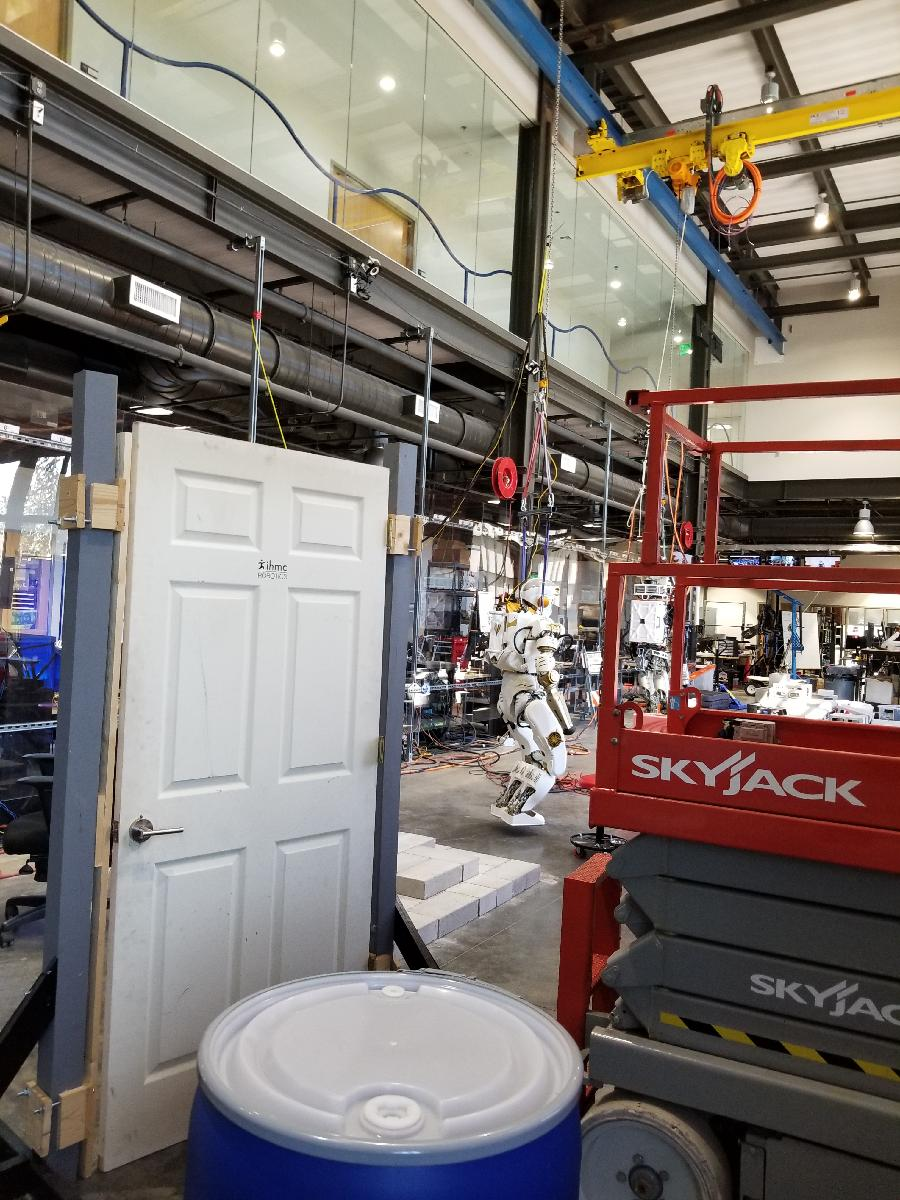door: (92, 417, 393, 1175)
doorHandle: (124, 815, 191, 848)
